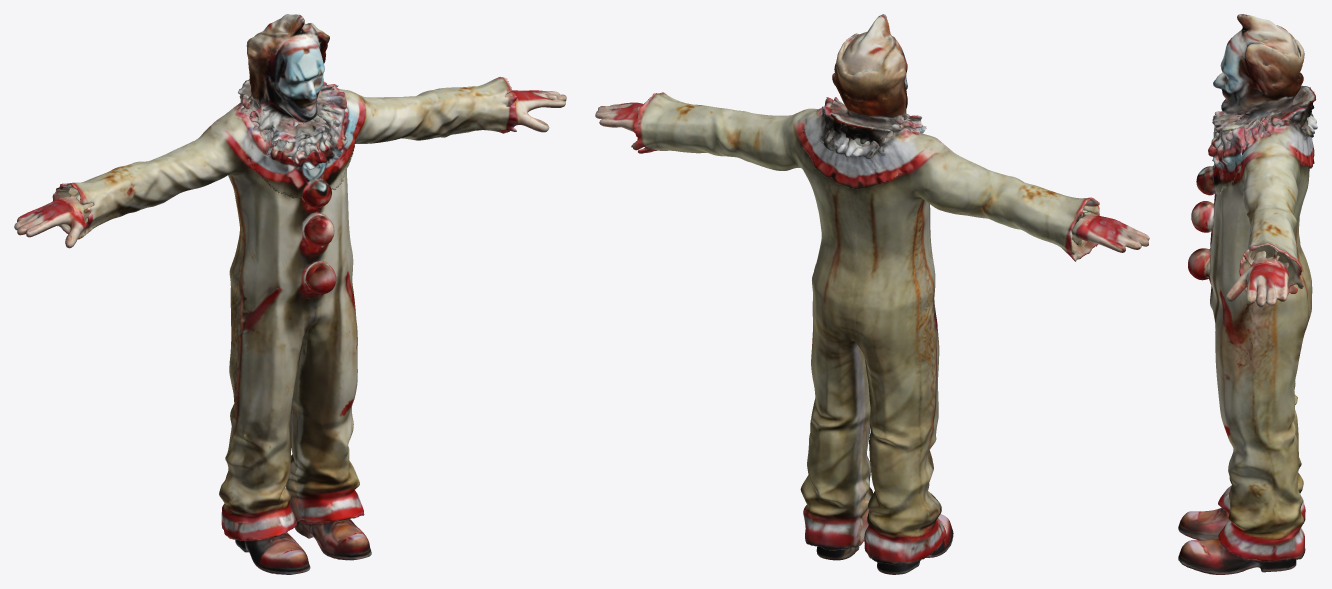
Rendered from Clown.fbx.
The picture shows the model from 3 angles, left to right: view 1: azimuth 30°, elevation 25°; view 2: azimuth 150°, elevation 25°; view 3: azimuth 270°, elevation 25°; orthographic projection.
Visible parts, largest first — view 1: Mesh1_Mesh1.007; view 2: Mesh1_Mesh1.007; view 3: Mesh1_Mesh1.007.
Boxes of the visible parts, x1=… form: Mesh1_Mesh1.007: x1=14, y1=14, x2=566, y2=574; Mesh1_Mesh1.007: x1=595, y1=14, x2=1149, y2=574; Mesh1_Mesh1.007: x1=1178, y1=14, x2=1317, y2=574.
Size of the model in its own units: 201 by 186 by 43.93.
Materials: 1 (1 with a texture image).
